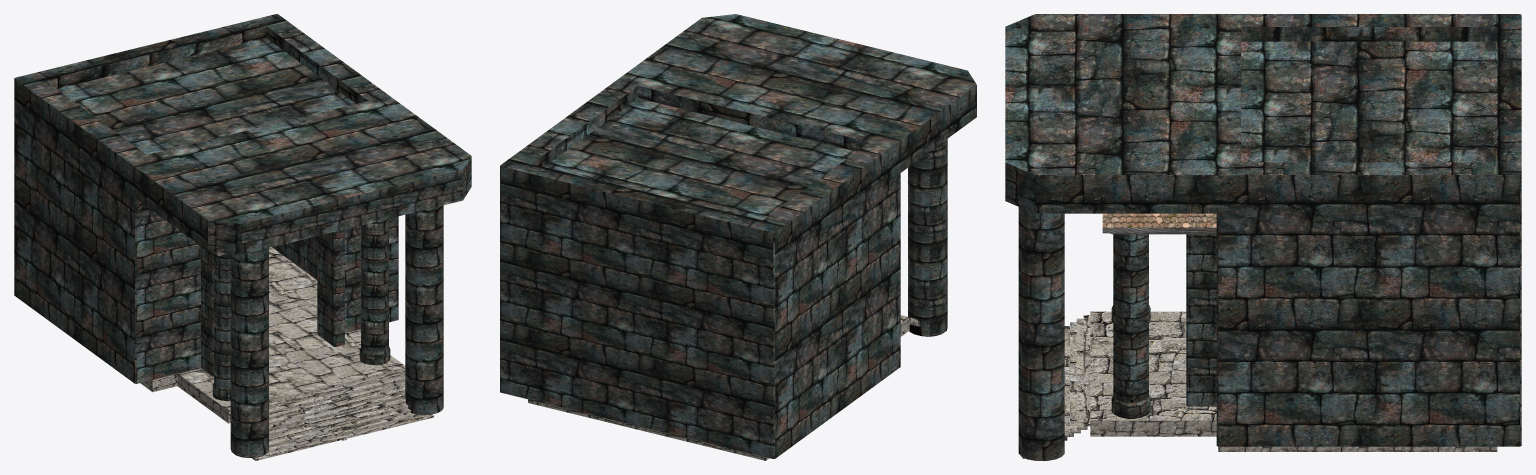
Rendered from Crypt_v2.FBX.
3 renders of one model, left to right at view 1: azimuth 30°, elevation 25°; view 2: azimuth 150°, elevation 25°; view 3: azimuth 270°, elevation 25°, orthographic. The views are drawn at different scales.
Visible parts, largest first — view 1: StraightStair01; view 2: StraightStair01; view 3: StraightStair01.
Part boxes in pixels (x1,y1,x2,y2): StraightStair01: (14,14,471,460); StraightStair01: (500,14,976,460); StraightStair01: (1005,14,1521,460).
Size of the model in its own units: 150 by 135 by 203.
5 materials, 5 textured.
